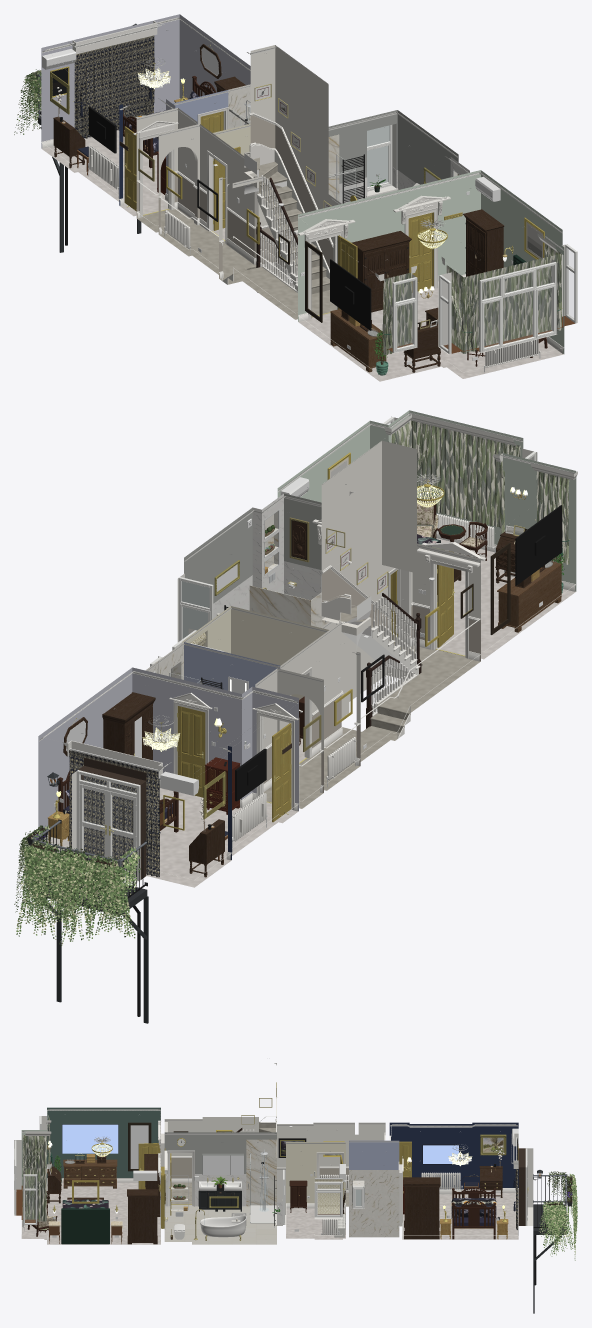
3 renders of one model, top to bottom at view 1: azimuth 30°, elevation 25°; view 2: azimuth 150°, elevation 25°; view 3: azimuth 270°, elevation 25°, orthographic. The views are drawn at different scales.
Visible parts, largest first — view 1: green_bedroom.walls, blue_bedroom.walls, landing1_rear.walls, stairs2.walls, green_bathroom.walls, blue_bedroom.curtain.closed, green_bedroom.floor, green_bedroom.curtain.bay.closed.5, landing1_rear.floor, blue_bedroom.floor, green_bedroom.curtain.bay.closed.6, stairs2.dado_band (+58 smaller); view 2: stairs2.walls, blue_bedroom.walls, green_bathroom.walls, green_bedroom.walls, landing1_rear.walls, blue_bedroom.floor, yellow_room.walls, blue_bedroom.curtain.closed, green_bedroom.curtain.bay.closed.6, balcony.ivy.0, green_bedroom.floor, green_bedroom.curtain.bay.closed.5 (+42 smaller); view 3: blue_bedroom.walls, green_bedroom.walls, green_bathroom.walls, green_bedroom.floor, green_bathroom.floor, landing1_rear.walls, blue_ensuite.cladding.e.n, blue_bedroom.wardrobe, green_bathroom.slab.w, blue_bedroom.floor, yellow_room.walls, green_bedroom.bed (+37 smaller).
Part boxes in pixels (left/top/right/bottom): green_bedroom.walls: left=298, top=170, right=567, bottom=354; blue_bedroom.walls: left=41, top=14, right=250, bottom=205; landing1_rear.walls: left=136, top=108, right=256, bottom=278; stairs2.walls: left=244, top=45, right=332, bottom=275; green_bathroom.walls: left=328, top=110, right=458, bottom=203; blue_bedroom.curtain.closed: left=74, top=35, right=154, bottom=138; green_bedroom.floor: left=298, top=288, right=563, bottom=381; green_bedroom.curtain.bay.closed.5: left=462, top=265, right=511, bottom=352; landing1_rear.floor: left=137, top=209, right=255, bottom=284; blue_bedroom.floor: left=41, top=130, right=168, bottom=216; green_bedroom.curtain.bay.closed.6: left=511, top=254, right=560, bottom=339; stairs2.dado_band: left=250, top=115, right=333, bottom=269; stairs2.walls: left=321, top=440, right=416, bottom=717; blue_bedroom.walls: left=38, top=667, right=298, bottom=883; green_bathroom.walls: left=177, top=493, right=321, bottom=642; green_bedroom.walls: left=277, top=410, right=576, bottom=591; landing1_rear.walls: left=255, top=618, right=402, bottom=792; blue_bedroom.floor: left=47, top=788, right=298, bottom=887; yellow_room.walls: left=182, top=606, right=328, bottom=699; blue_bedroom.curtain.closed: left=70, top=750, right=159, bottom=877; green_bedroom.curtain.bay.closed.6: left=411, top=420, right=465, bottom=518; balcony.ivy.0: left=70, top=847, right=140, bottom=938; green_bedroom.floor: left=436, top=538, right=575, bottom=659; green_bedroom.curtain.bay.closed.5: left=463, top=433, right=520, bottom=528; blue_bedroom.walls: left=389, top=1122, right=533, bottom=1225; green_bedroom.walls: left=14, top=1107, right=160, bottom=1215; green_bathroom.walls: left=164, top=1132, right=285, bottom=1224; green_bedroom.floor: left=21, top=1182, right=160, bottom=1244; green_bathroom.floor: left=164, top=1205, right=276, bottom=1244; landing1_rear.walls: left=277, top=1122, right=385, bottom=1187; blue_ensuite.cladding.e.n: left=364, top=1170, right=399, bottom=1237; blue_bedroom.wardrobe: left=403, top=1177, right=440, bottom=1239; green_bathroom.slab.w: left=246, top=1139, right=276, bottom=1206; blue_bedroom.floor: left=402, top=1193, right=518, bottom=1239; yellow_room.walls: left=286, top=1142, right=345, bottom=1219; green_bedroom.bed: left=61, top=1208, right=109, bottom=1244.
Size of the model in its own units: 4.99 by 8.67 by 18.98.
Materials: 224 (47 with a texture image).
